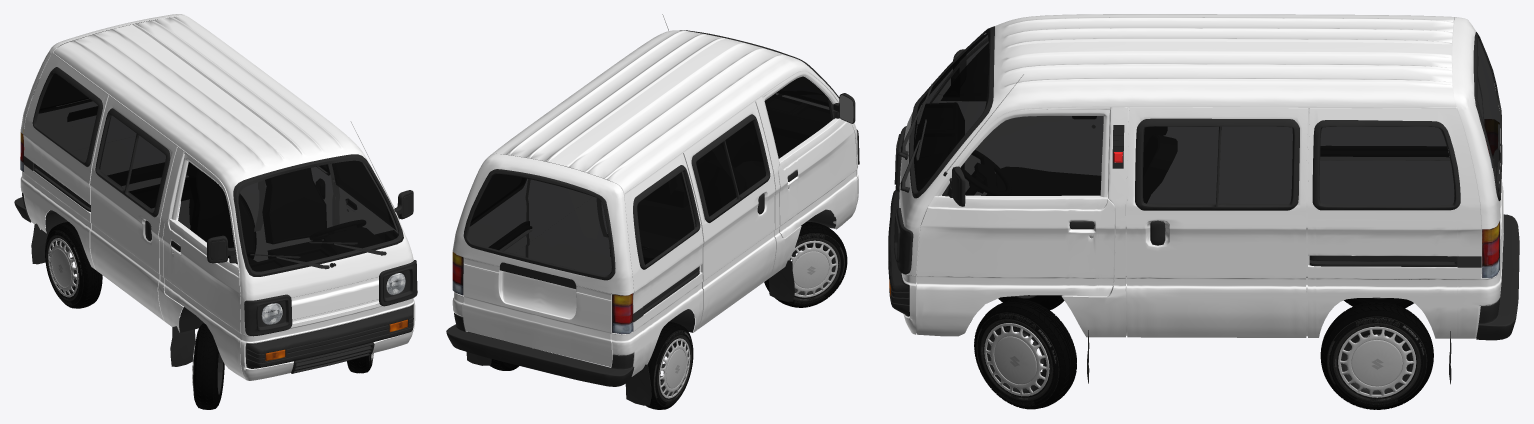
The model's file is kei_van_hero.glb.
3 renders of one model, left to right at view 1: azimuth 30°, elevation 25°; view 2: azimuth 150°, elevation 25°; view 3: azimuth 270°, elevation 25°, orthographic. The views are drawn at different scales.
Visible parts, largest first — view 1: Object_124, Object_15, Object_116, Object_5, Object_9, Object_122, Object_70; view 2: Object_124, Object_15, Object_116, Object_5, Object_9, Object_122, Object_64; view 3: Object_124, Object_116, Object_15, Object_5, Object_9, Object_64.
Part boxes in pixels (box(x1,y1,x2,y2)): Object_124: box(20, 14, 415, 380); Object_15: box(14, 19, 417, 394); Object_116: box(36, 73, 398, 271); Object_5: box(45, 196, 373, 409); Object_9: box(48, 238, 373, 387); Object_122: box(23, 156, 247, 367); Object_70: box(261, 273, 405, 324); Object_124: box(452, 30, 858, 376); Object_15: box(446, 30, 859, 405); Object_116: box(468, 76, 832, 275); Object_5: box(490, 222, 847, 409); Object_9: box(659, 240, 838, 398); Object_122: box(611, 200, 836, 332); Object_64: box(452, 251, 633, 334); Object_124: box(899, 14, 1503, 338); Object_116: box(913, 33, 1500, 204); Object_15: box(888, 26, 1519, 394); Object_5: box(974, 295, 1433, 409); Object_9: box(984, 323, 1416, 397); Object_64: box(1482, 119, 1499, 278).
Bounding box in the file's own units: 1.62 × 1.88 × 3.3.
Materials: 16 (4 with a texture image).
